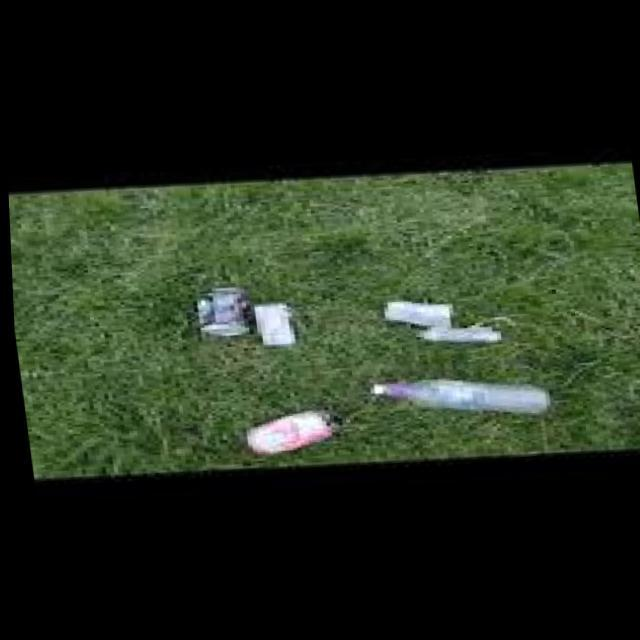clothes: (214, 394, 366, 469), (178, 280, 256, 340), (246, 292, 313, 348)
food: (360, 284, 468, 332), (400, 310, 520, 342)
leaf: (361, 356, 568, 430)
